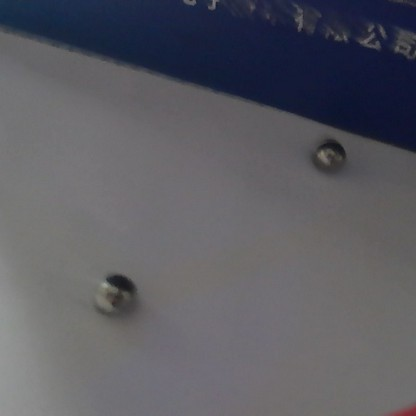ironball: (89, 271, 139, 318), (309, 136, 348, 175)
